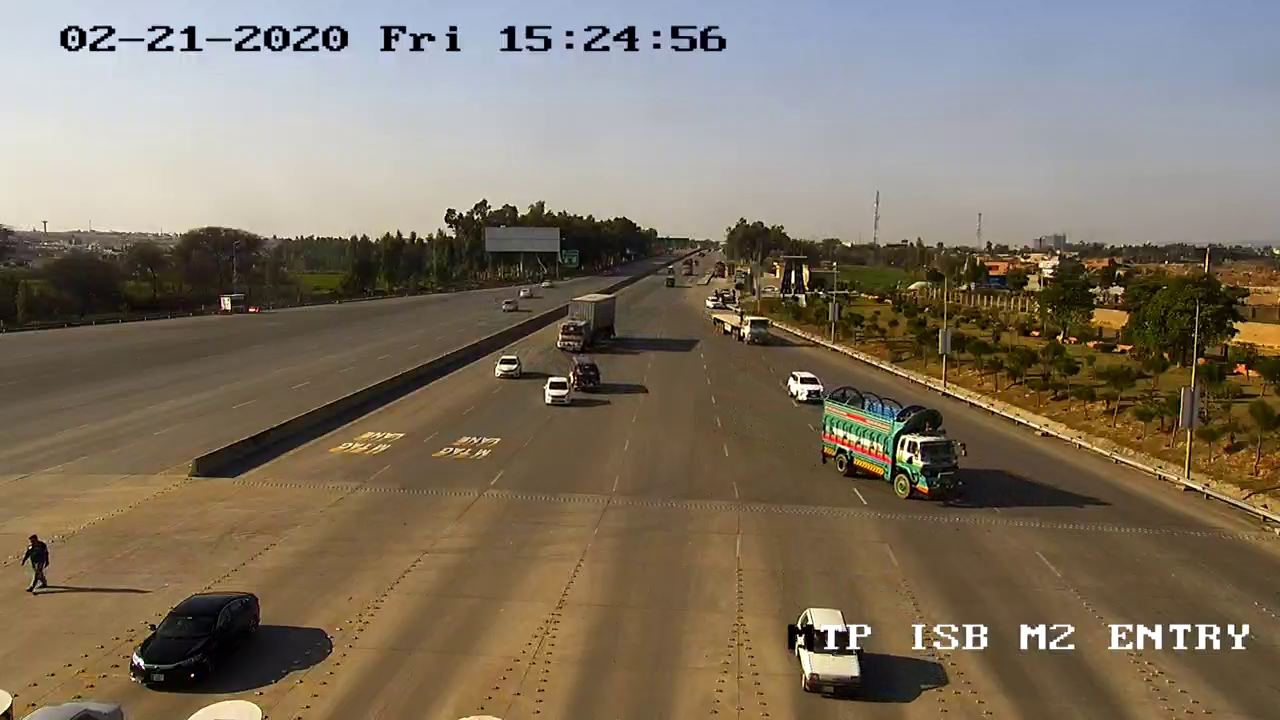f1: (120, 576, 271, 699)
f5: (814, 380, 971, 517)
